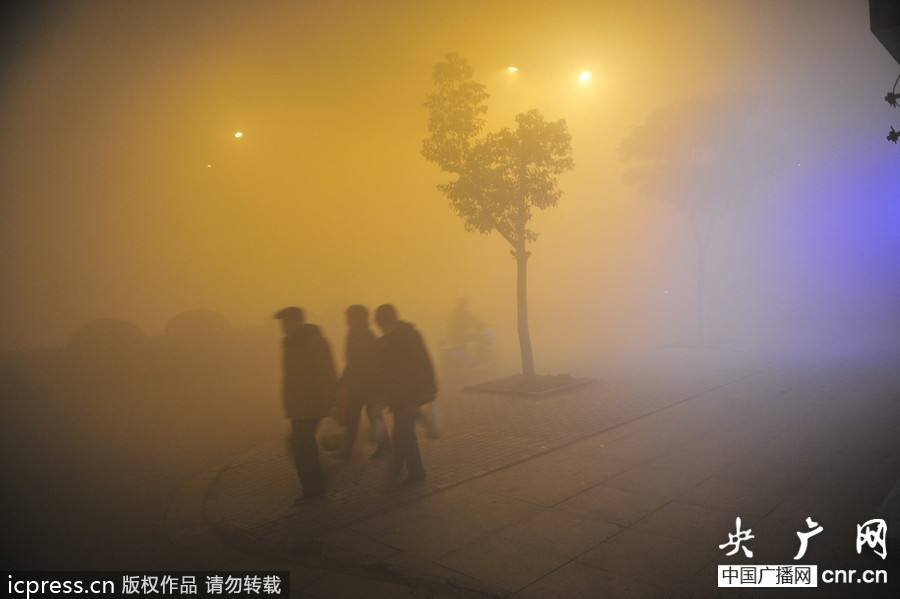person: (271, 301, 338, 507), (371, 302, 439, 488), (328, 301, 389, 461), (446, 299, 494, 374)
